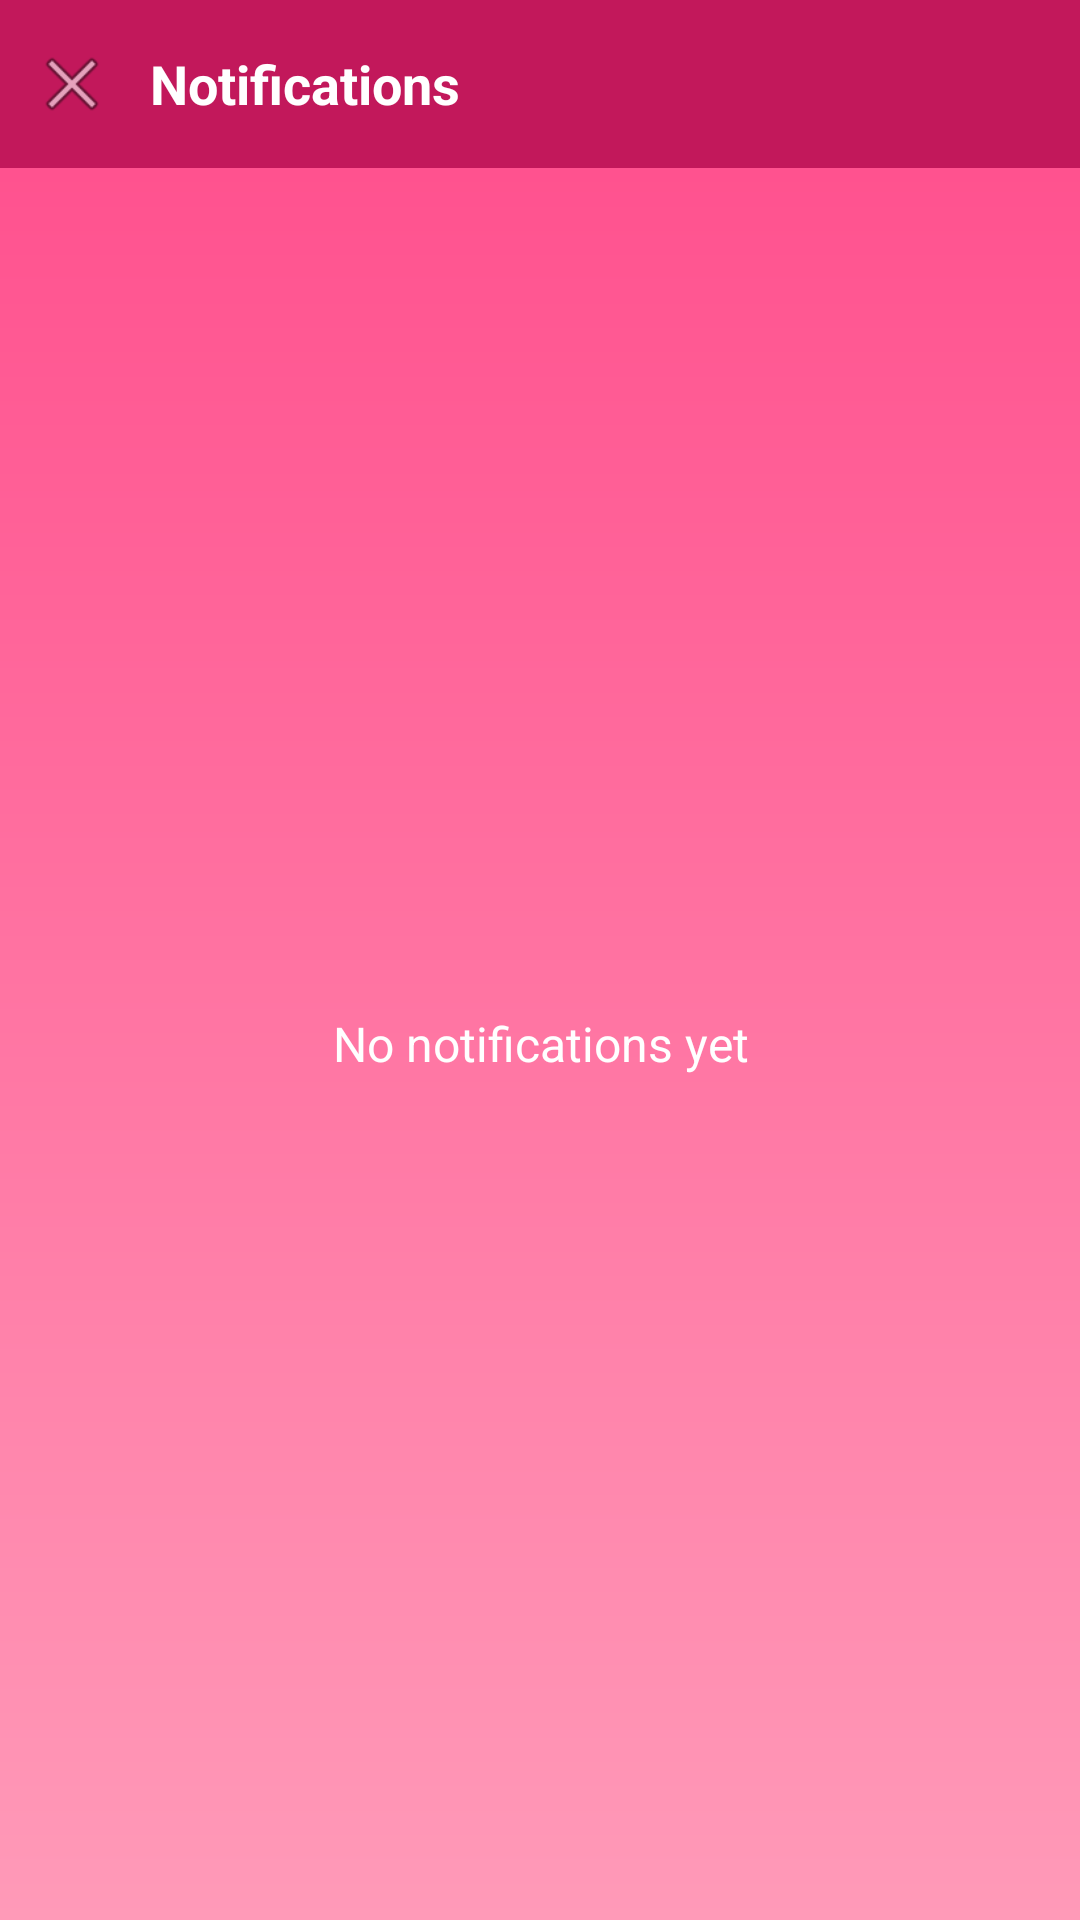

Icons on this 1080w x 1920h Android screen, each with its box as (x1, y1, x2, y2):
close clear cancel: (46, 58, 98, 110)
